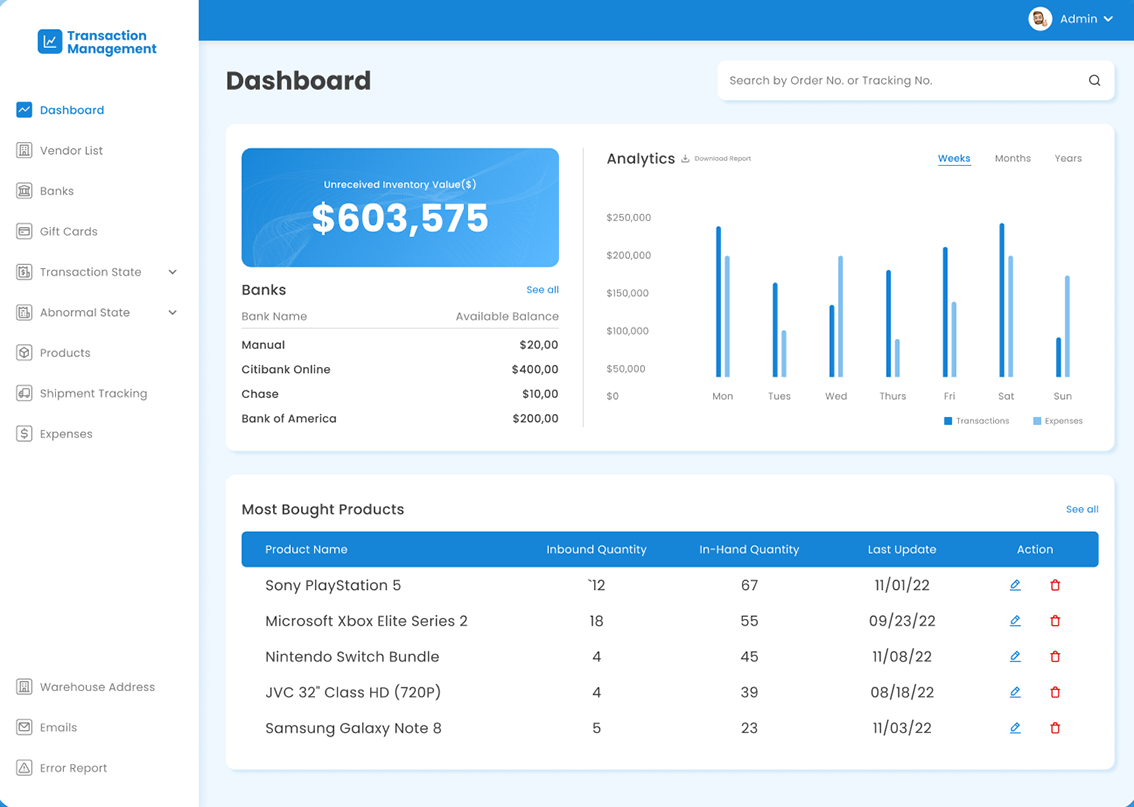block: (225, 122, 1115, 452), (224, 474, 1117, 772), (1, 1, 199, 807), (199, 1, 1134, 40)
chart: (597, 185, 1097, 434)
form: (715, 59, 1117, 100)
icon: (1042, 570, 1069, 600), (1005, 715, 1033, 741), (1002, 608, 1028, 635), (1002, 644, 1029, 670), (1001, 572, 1026, 600), (1041, 716, 1069, 741), (37, 29, 63, 55), (1004, 680, 1031, 705), (1043, 610, 1070, 634), (1085, 65, 1108, 93), (12, 755, 36, 780), (1044, 646, 1069, 670), (1045, 679, 1069, 704), (12, 715, 36, 739), (11, 676, 37, 697), (14, 381, 36, 405), (13, 262, 36, 284), (12, 180, 36, 201), (12, 302, 36, 323), (14, 221, 34, 243), (15, 342, 35, 364), (14, 423, 36, 443), (163, 300, 183, 321), (14, 100, 34, 119), (15, 140, 32, 160), (164, 262, 180, 282), (677, 150, 692, 170), (1104, 12, 1117, 26)
image: (1029, 5, 1053, 30)
table: (233, 525, 1106, 760), (236, 276, 564, 433)
